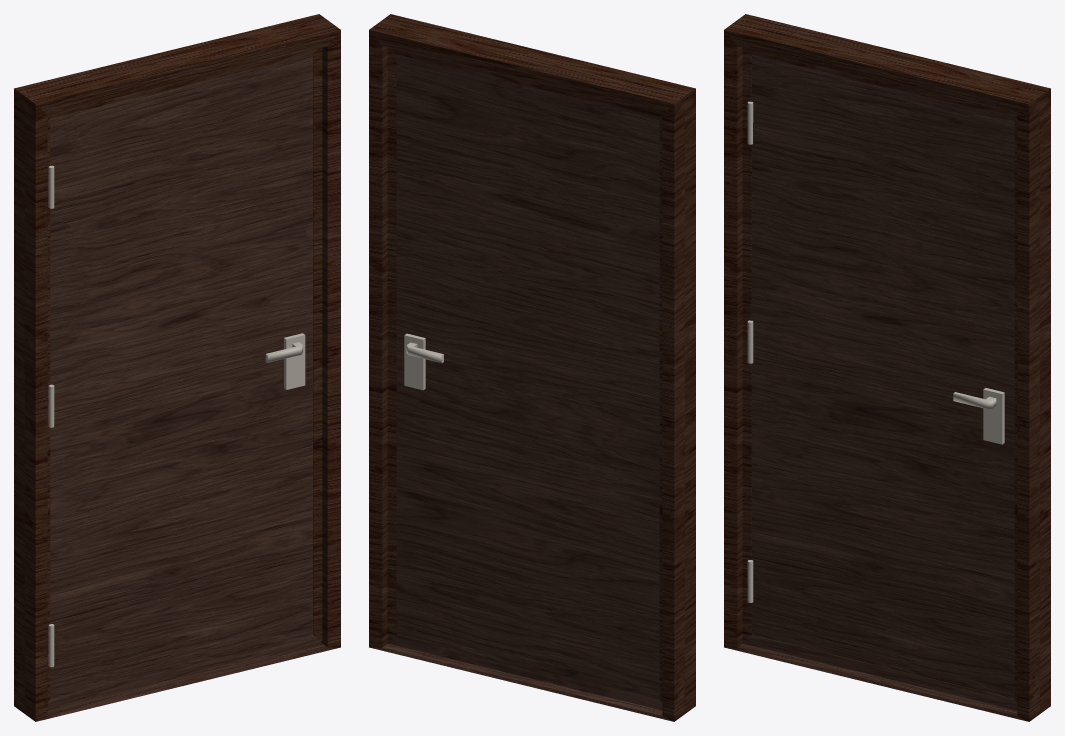
File: Door.glb
The picture shows the model from 3 angles, left to right: view 1: azimuth 30°, elevation 25°; view 2: azimuth 150°, elevation 25°; view 3: azimuth 330°, elevation 25°; orthographic projection.
Visible parts, largest first — view 1: Door mechanism, Door; view 2: Door mechanism, Door; view 3: Door mechanism, Door.
Boxes of the visible parts, box(x1,y1,x2,y2) form: Door mechanism: box(48, 54, 312, 698); Door: box(14, 14, 340, 721); Door mechanism: box(396, 54, 659, 699); Door: box(369, 14, 695, 721); Door mechanism: box(747, 54, 1014, 698); Door: box(724, 14, 1050, 721).
Size of the model in its own units: 137 by 266 by 19.23.
Materials: 1 (1 with a texture image).
